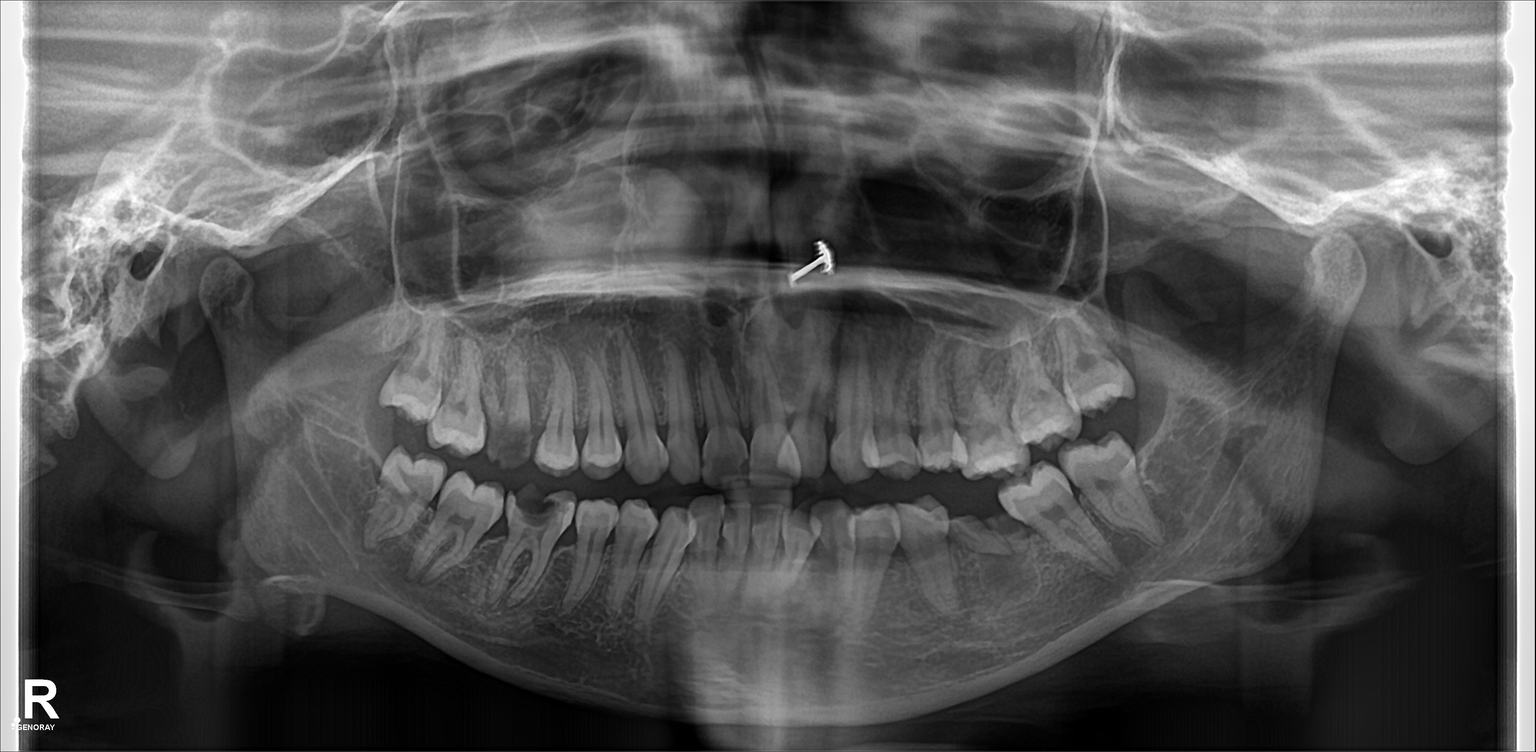Dental Caries: (484, 411, 535, 459), (512, 490, 566, 532), (708, 452, 752, 486)
Retained Root: (948, 501, 1009, 581)
